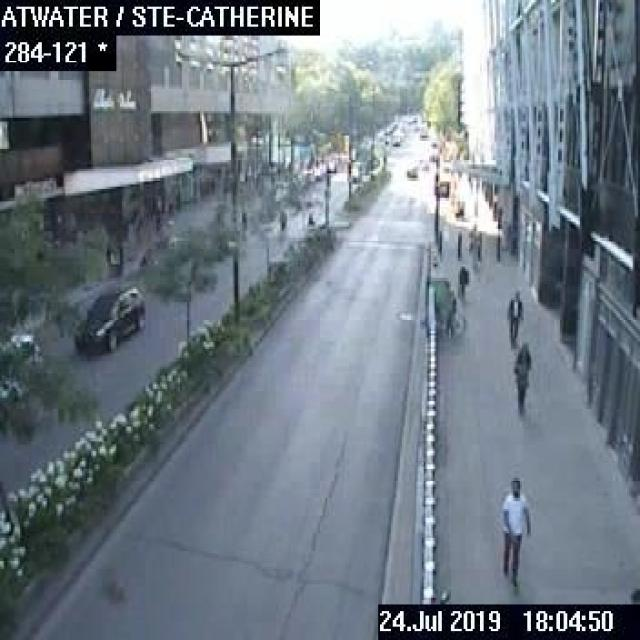pedestrian: (496, 476, 534, 586), (512, 342, 531, 414), (456, 262, 469, 300), (629, 587, 638, 602)
vehicle: (71, 278, 144, 356), (505, 288, 522, 347), (406, 167, 417, 176)
